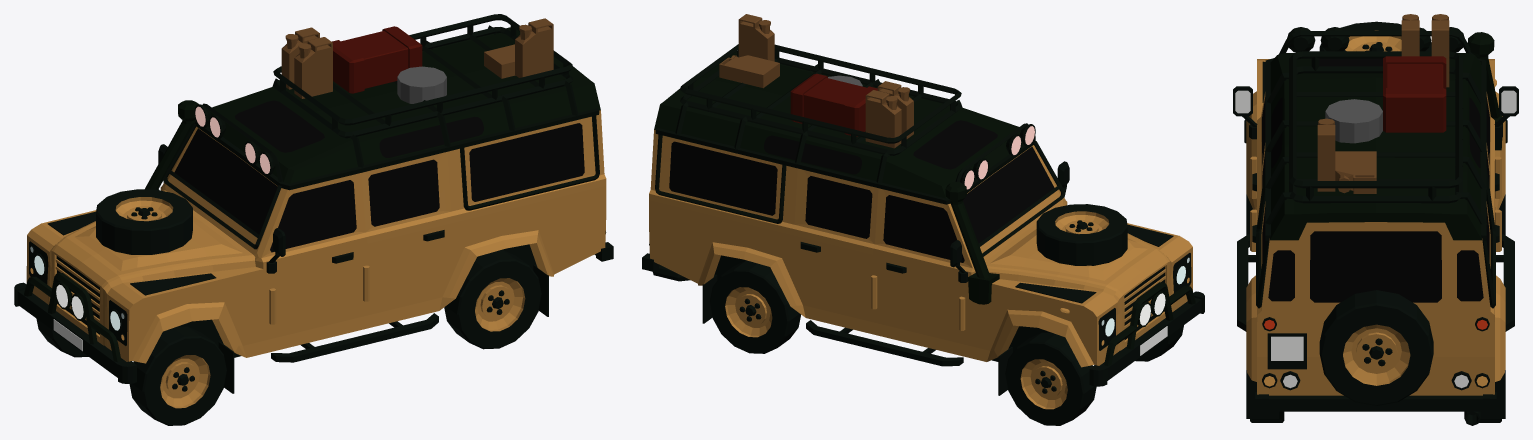
File: landyroamer.glb
3 views of the same model, side by side, from view 1: azimuth 30°, elevation 25°; view 2: azimuth 150°, elevation 25°; view 3: azimuth 270°, elevation 25° (orthographic). The views are drawn at different scales.
Visible parts, largest first — view 1: landy; view 2: landy; view 3: landy.
Boxes of the visible parts, x1=… form: landy: x1=14, y1=14, x2=613, y2=425; landy: x1=642, y1=14, x2=1204, y2=425; landy: x1=1233, y1=14, x2=1518, y2=425.
Size of the model in its own units: 3.88 by 2.05 by 1.61.
3 materials, 2 textured.
